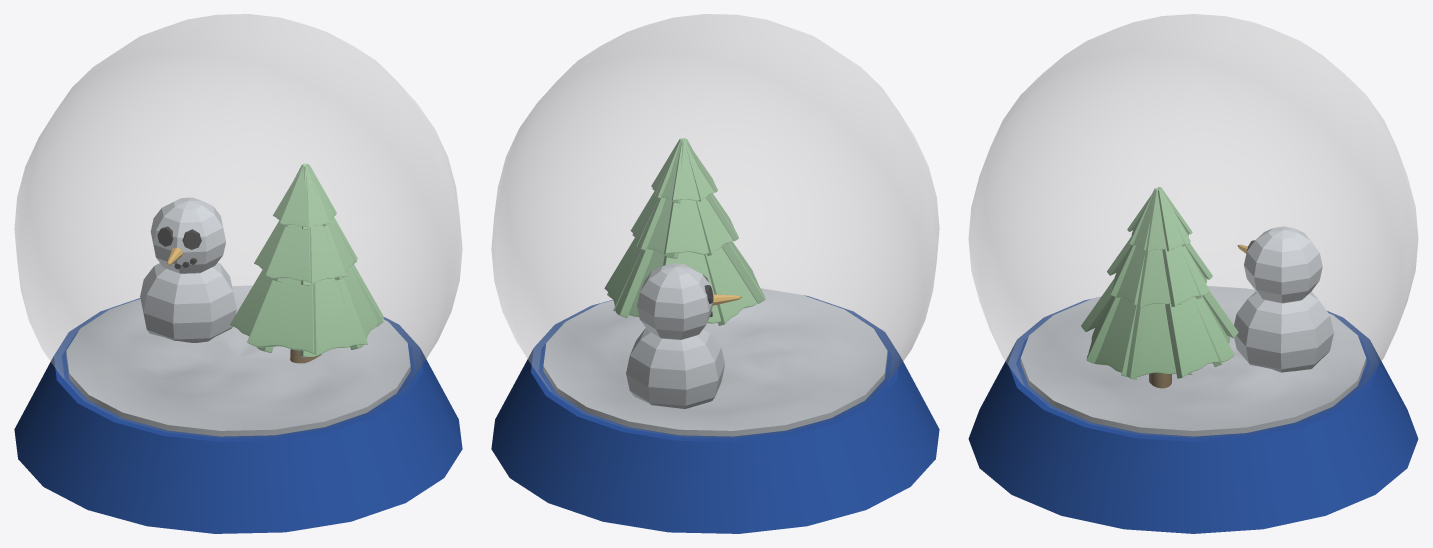
The model's file is SnowGlobe.fbx.
3 renders of one model, left to right at view 1: azimuth 30°, elevation 25°; view 2: azimuth 150°, elevation 25°; view 3: azimuth 270°, elevation 25°, orthographic.
Parts seen in each view (by area): view 1: Globe, Base, SnowBase, pasted__pCube45 (×3), Snowman_Body, pasted__pCube39 (×3), pasted__pSphere1, pasted__pCube42 (×2), pasted__pCube38 (×2); view 2: Globe, Base, SnowBase, Snowman_Body, pasted__pSphere1, pasted__pCube43 (×3), pasted__pCube44 (×3), pasted__pCube38 (×2), pasted__pCube40 (×2), pasted__pCube45; view 3: Globe, Base, SnowBase, Snowman_Body, pasted__pCube44 (×3), pasted__pSphere1, pasted__pCube42 (×3), pasted__pCube41 (×3), pasted__pCube39, pasted__pCube45, pasted__pCube43.
Boxes of the visible parts, x1=… form: Globe: x1=14, y1=14, x2=462, y2=438; Base: x1=14, y1=298, x2=462, y2=533; SnowBase: x1=66, y1=285, x2=410, y2=436; pasted__pCube45 (×3): x1=247, y1=166, x2=316, y2=354; Snowman_Body: x1=140, y1=262, x2=236, y2=342; pasted__pCube39 (×3): x1=300, y1=166, x2=367, y2=357; pasted__pSphere1: x1=150, y1=197, x2=225, y2=273; pasted__pCube42 (×2): x1=324, y1=216, x2=384, y2=349; pasted__pCube38 (×2): x1=230, y1=220, x2=284, y2=352; Globe: x1=491, y1=14, x2=939, y2=438; Base: x1=491, y1=295, x2=939, y2=533; SnowBase: x1=543, y1=288, x2=887, y2=436; Snowman_Body: x1=626, y1=328, x2=724, y2=408; pasted__pSphere1: x1=637, y1=263, x2=712, y2=339; pasted__pCube43 (×3): x1=663, y1=139, x2=720, y2=323; pasted__pCube44 (×3): x1=604, y1=139, x2=681, y2=317; pasted__pCube38 (×2): x1=696, y1=197, x2=757, y2=325; pasted__pCube40 (×2): x1=613, y1=198, x2=679, y2=316; pasted__pCube45: x1=721, y1=242, x2=765, y2=303; Globe: x1=968, y1=14, x2=1418, y2=438; Base: x1=968, y1=297, x2=1418, y2=533; SnowBase: x1=1020, y1=286, x2=1366, y2=436; Snowman_Body: x1=1234, y1=291, x2=1333, y2=372; pasted__pCube44 (×3): x1=1158, y1=189, x2=1234, y2=378; pasted__pSphere1: x1=1244, y1=226, x2=1322, y2=303; pasted__pCube42 (×3): x1=1087, y1=189, x2=1157, y2=379; pasted__pCube41 (×3): x1=1121, y1=189, x2=1192, y2=377; pasted__pCube39: x1=1086, y1=296, x2=1120, y2=363; pasted__pCube45: x1=1081, y1=277, x2=1115, y2=331; pasted__pCube43: x1=1203, y1=291, x2=1238, y2=338.
Size of the model in its own units: 6.85 by 6.79 by 6.85.
